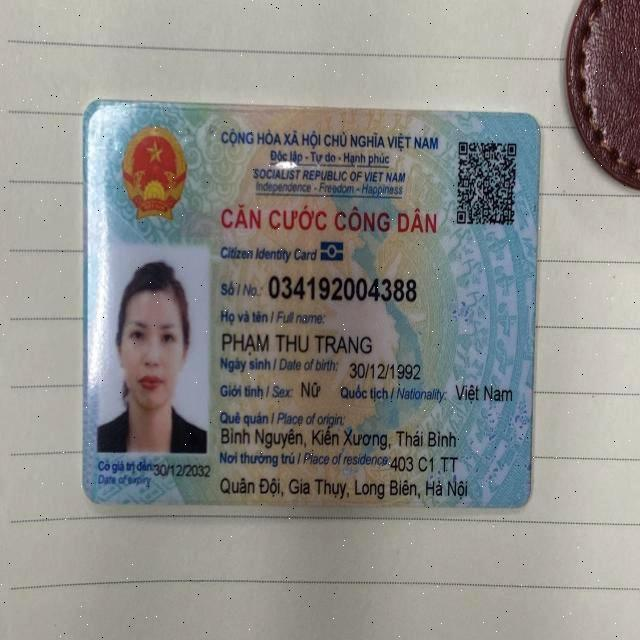current_place: (221, 471, 469, 502), (389, 453, 460, 476)
dob: (346, 360, 426, 383)
expire_date: (152, 458, 210, 483)
gender: (294, 374, 334, 404)
id: (265, 271, 416, 303)
name: (221, 324, 375, 358)
nationality: (454, 376, 517, 406)
origin_place: (219, 424, 457, 450)
